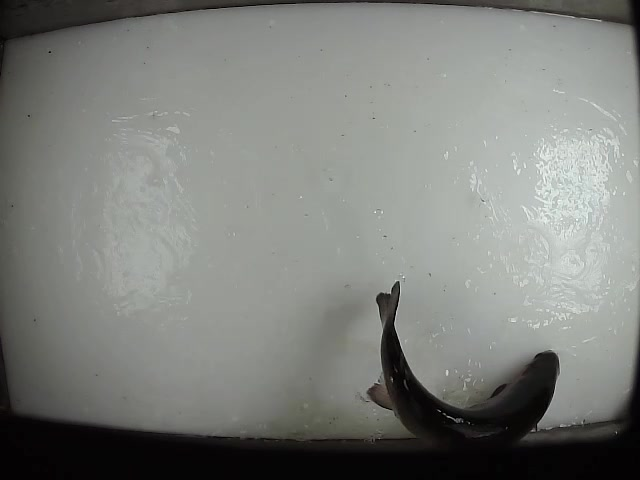fish: (356, 279, 564, 455)
